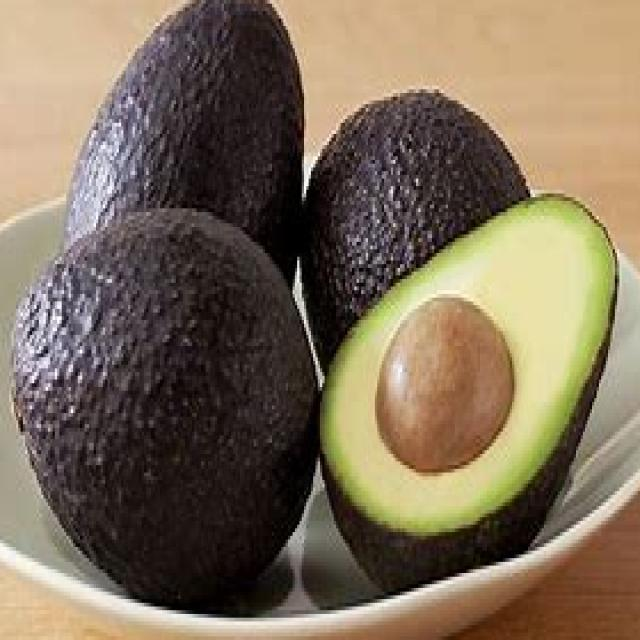avocado: (5, 205, 318, 608), (315, 190, 628, 588)
